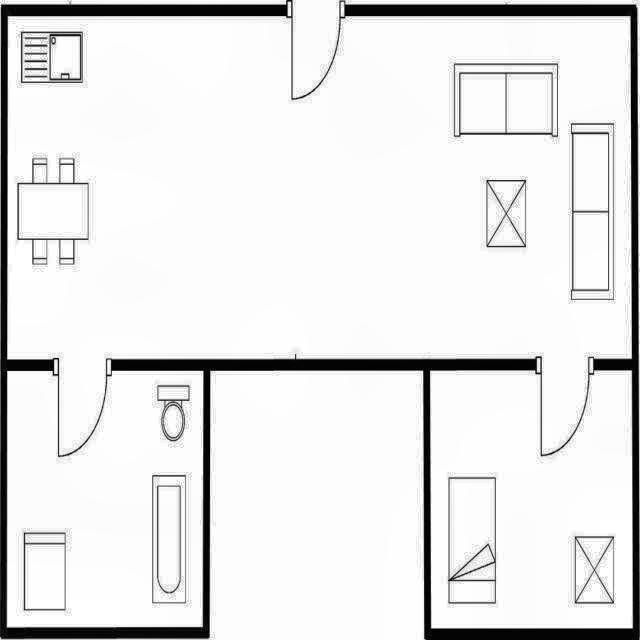room: (7, 16, 632, 359), (430, 369, 633, 629), (6, 369, 204, 628)
